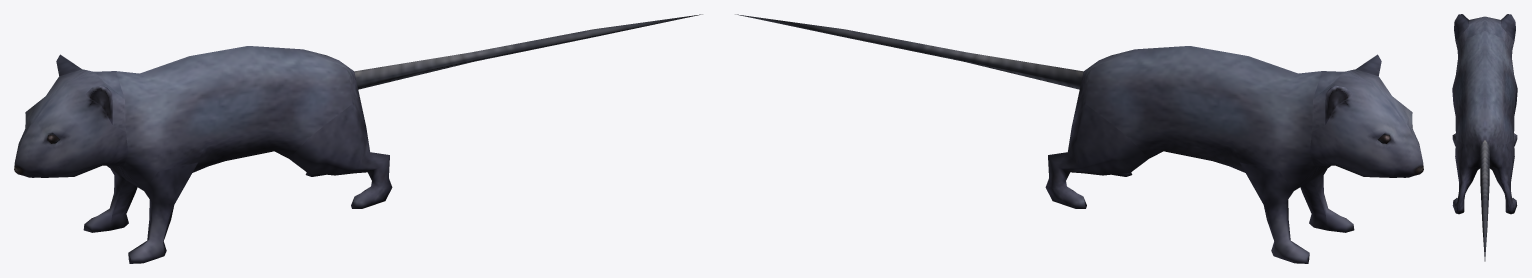
File: CeSuo_01_laoshu_01.FBX
3 views of the same model, side by side, from view 1: azimuth 30°, elevation 25°; view 2: azimuth 150°, elevation 25°; view 3: azimuth 270°, elevation 25° (orthographic). The views are drawn at different scales.
Visible parts, largest first — view 1: CeSuo_01_laoshu_01; view 2: CeSuo_01_laoshu_01; view 3: CeSuo_01_laoshu_01.
Boxes of the visible parts, x1=… form: CeSuo_01_laoshu_01: x1=14, y1=14, x2=702, y2=263; CeSuo_01_laoshu_01: x1=735, y1=14, x2=1423, y2=263; CeSuo_01_laoshu_01: x1=1452, y1=14, x2=1517, y2=261.
Size of the model in its own units: 95.51 by 24.26 by 12.61.
